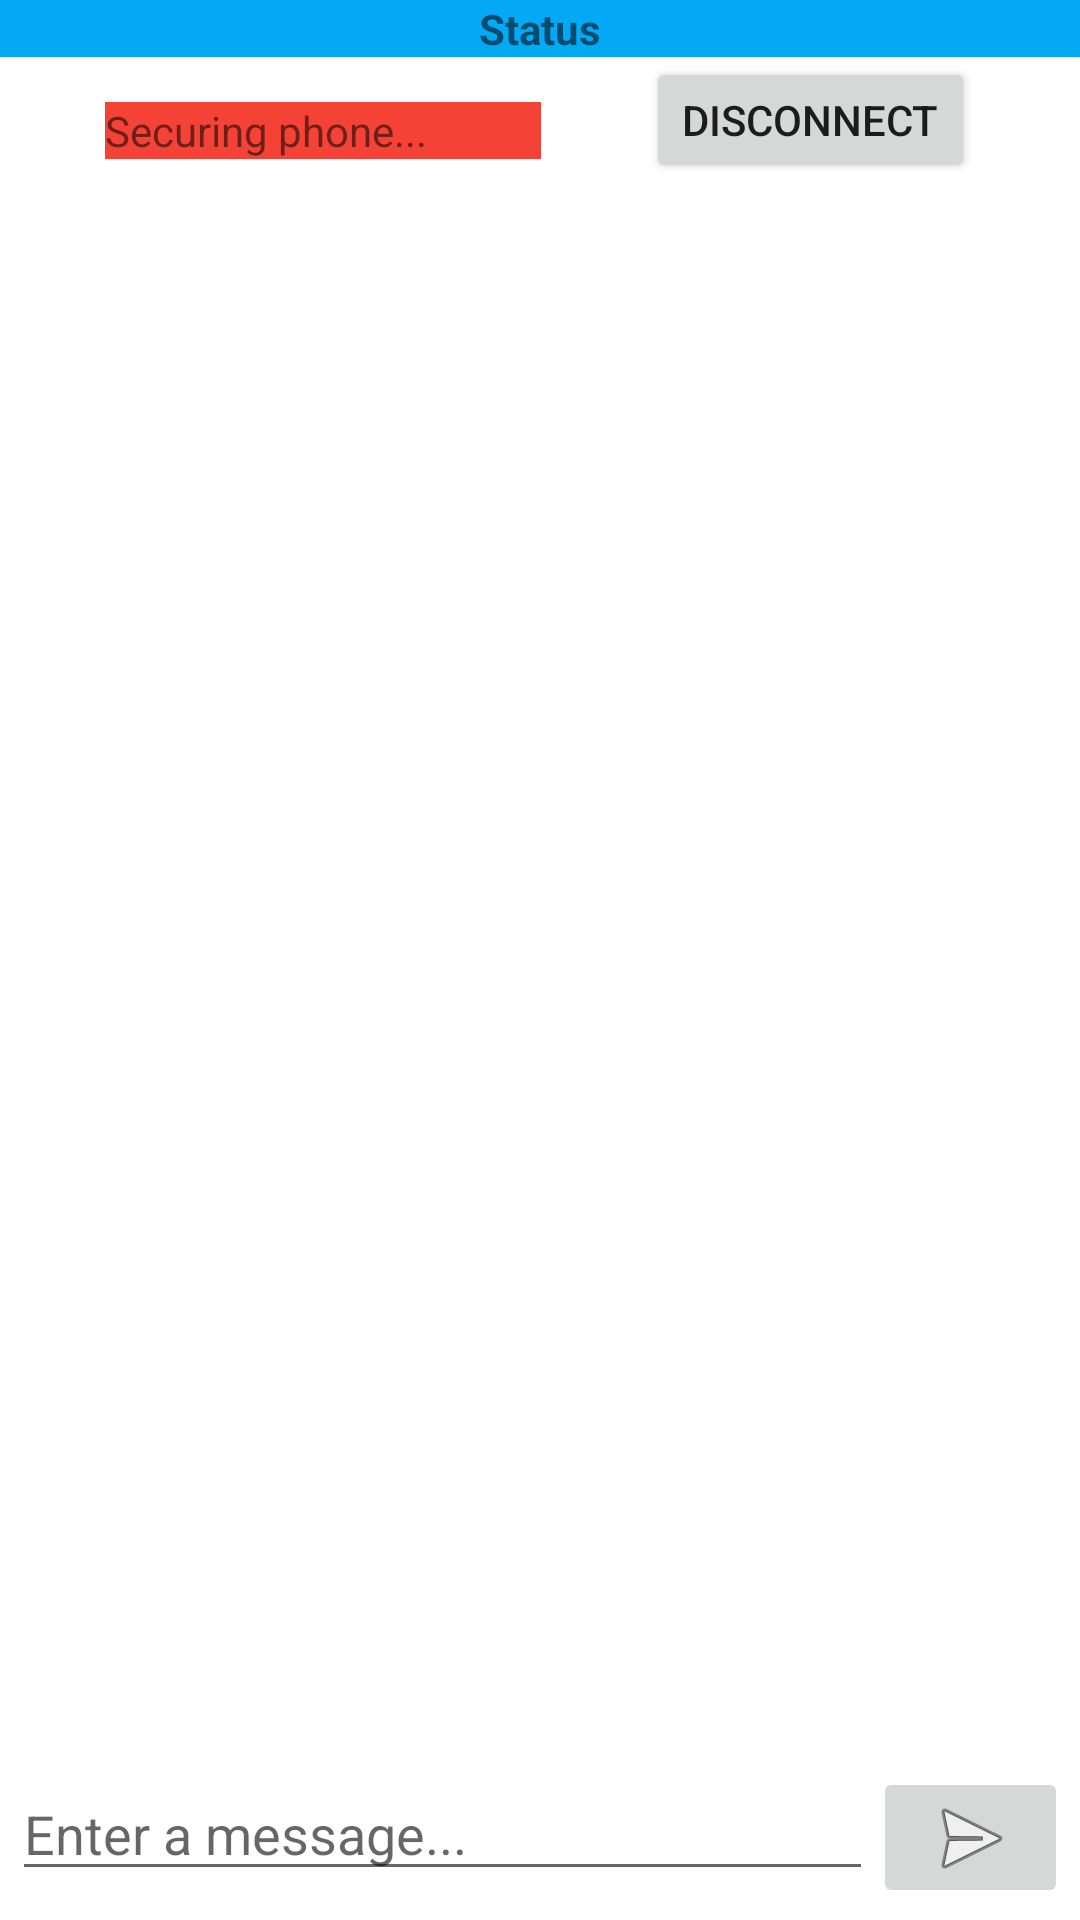

Screen size 1080*1920. Icon name, then its center in pixels as [x,y]:
send: [970,1837]
